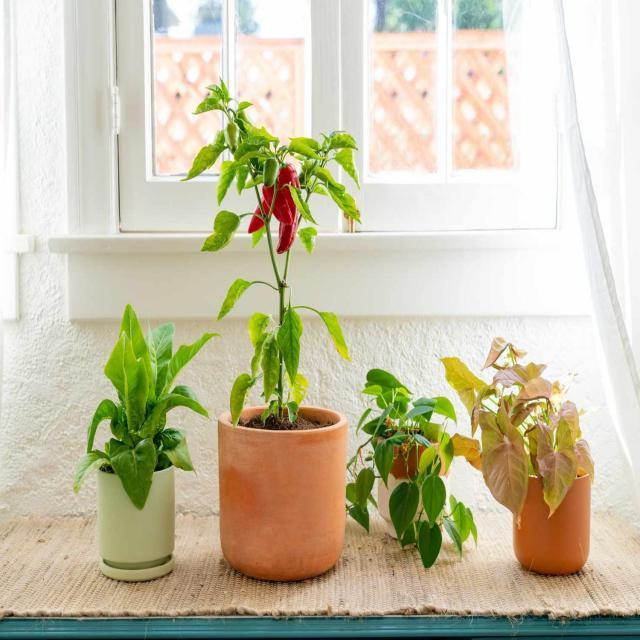chilli: (185, 79, 360, 426)
plant: (74, 304, 215, 509), (443, 338, 595, 521), (346, 369, 478, 568)
